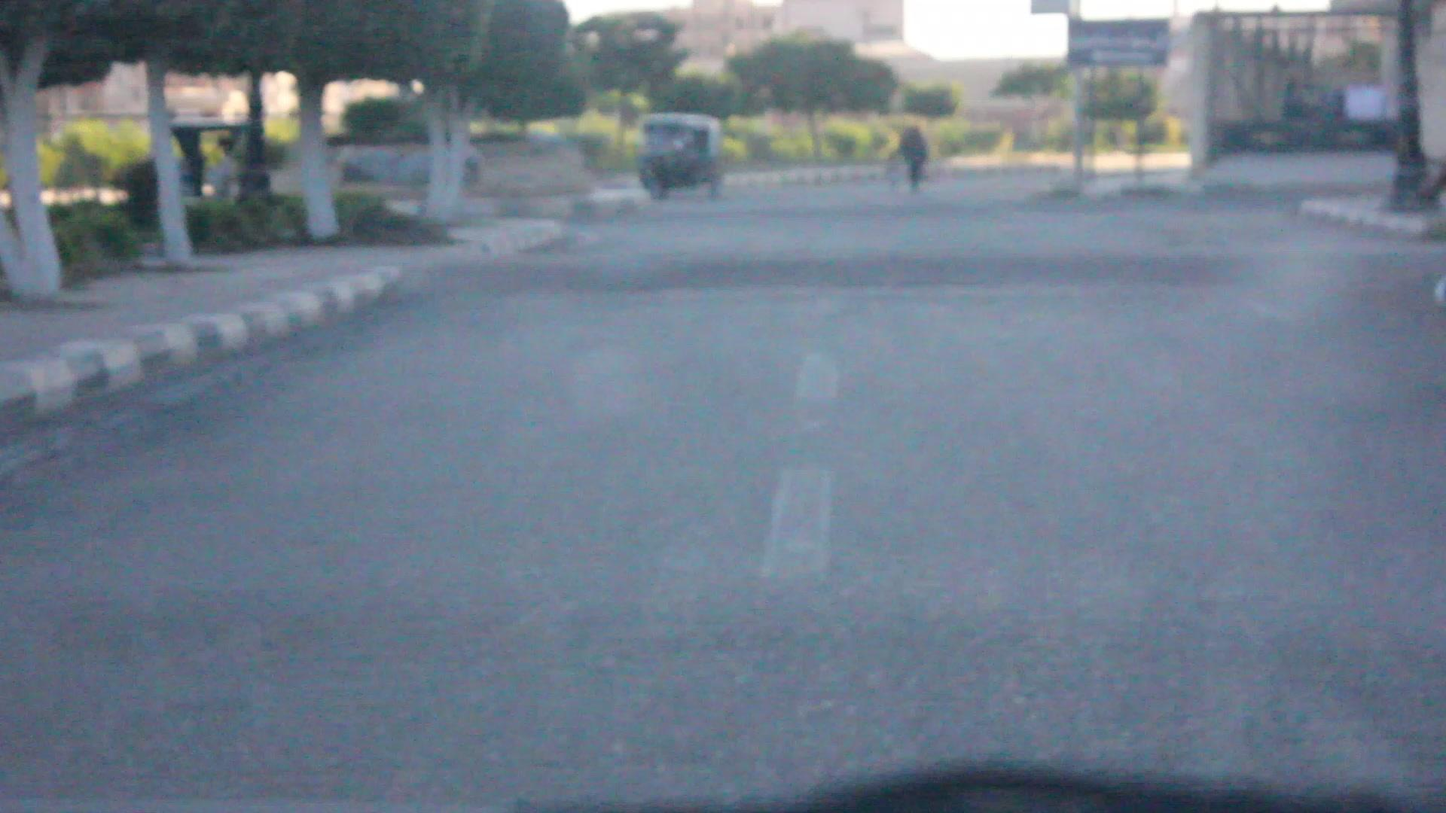Bump: (399, 244, 1445, 299)
